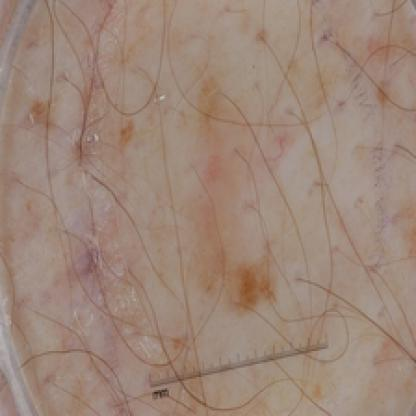malignant: (59, 112, 299, 323)
